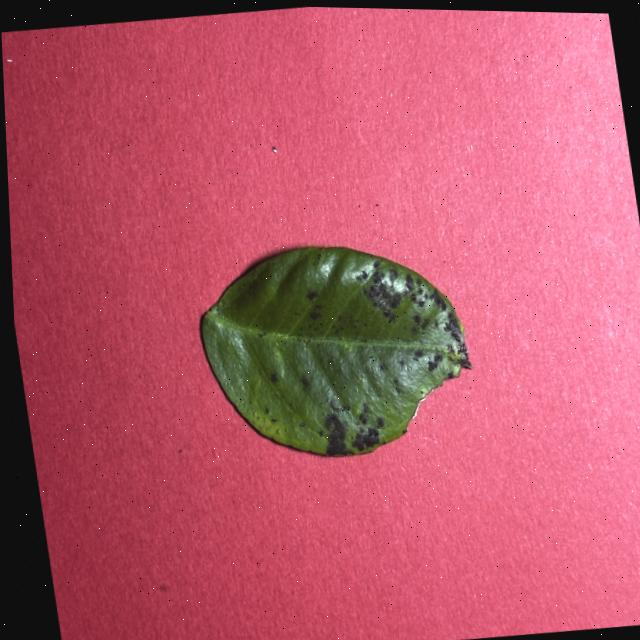sooty_mold: (200, 247, 469, 456)
